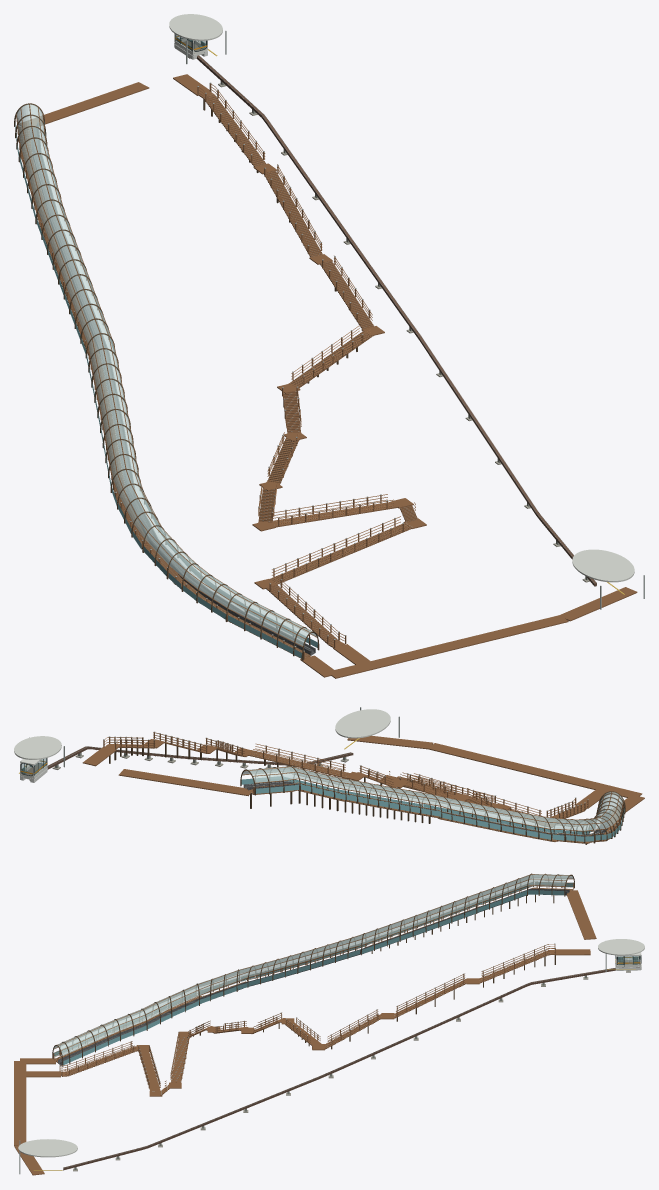
The model's file is bitgaram-access-overview.glb.
3 renders of one model, top to bottom at view 1: azimuth 30°, elevation 25°; view 2: azimuth 150°, elevation 25°; view 3: azimuth 270°, elevation 25°, orthographic. The views are drawn at different scales.
Parts seen in each view (by area): view 1: access101_gallery_roof, walk-floor_outdoor_timber_stairs, photo_stone_slide_U_trough, access101_outdoor_horizontal_rails, walk-floor_slide_side_stairs, slide_gallery_longitudinal_slats, slide_gallery_timber_arch, walk-floor_access101_lower_gallery, slide_gallery_blue_side, access101_outdoor_guard_posts, access101_lower_station_oval_canopy, walk-floor_access101_lower_outdoor (+4 smaller); view 2: access101_gallery_roof, slide_gallery_blue_side, access101_outdoor_horizontal_rails, walk-floor_access101_lower_gallery, walk-floor_outdoor_timber_stairs, slide_gallery_timber_arch, slide_gallery_longitudinal_slats, access101_outdoor_guard_posts, access101_lower_station_oval_canopy, walk-floor_access101_lower_outdoor, walk-floor_access101_upper_gallery, access101_upper_station_oval_canopy (+12 smaller); view 3: access101_gallery_roof, slide_gallery_blue_side, walk-floor_outdoor_timber_stairs, access101_outdoor_horizontal_rails, slide_gallery_longitudinal_slats, slide_gallery_timber_arch, photo_stone_slide_U_trough, walk-floor_access101_lower_outdoor, access101_outdoor_guard_posts, walk-floor_access101_lower_gallery, access101_lower_station_oval_canopy, walk-floor_access101_turn_landings (+4 smaller).
Part boxes in pixels (x1,y1,x2,y2): access101_gallery_roof: (16,104,316,645); walk-floor_outdoor_timber_stairs: (198,91,419,647); photo_stone_slide_U_trough: (30,123,315,655); access101_outdoor_horizontal_rails: (198,84,415,645); walk-floor_slide_side_stairs: (19,127,310,658); slide_gallery_longitudinal_slats: (16,104,316,646); slide_gallery_timber_arch: (14,103,319,655); walk-floor_access101_lower_gallery: (300,587,637,678); slide_gallery_blue_side: (15,122,317,658); access101_outdoor_guard_posts: (197,83,403,648); access101_lower_station_oval_canopy: (572,549,634,582); walk-floor_access101_lower_outdoor: (333,615,567,668); access101_gallery_roof: (242,766,623,830); slide_gallery_blue_side: (241,776,624,841); access101_outdoor_horizontal_rails: (104,732,587,818); walk-floor_access101_lower_gallery: (347,735,644,812); walk-floor_outdoor_timber_stairs: (105,739,587,823); slide_gallery_timber_arch: (240,765,625,838); slide_gallery_longitudinal_slats: (242,766,623,831); access101_outdoor_guard_posts: (103,732,588,822); access101_lower_station_oval_canopy: (335,709,390,738); walk-floor_access101_lower_outdoor: (430,743,611,808); walk-floor_access101_upper_gallery: (118,769,253,796); access101_upper_station_oval_canopy: (14,736,61,759); access101_gallery_roof: (54,874,573,1055); slide_gallery_blue_side: (54,882,573,1065); walk-floor_outdoor_timber_stairs: (60,950,555,1095); access101_outdoor_horizontal_rails: (60,944,555,1090); slide_gallery_longitudinal_slats: (54,874,573,1056); slide_gallery_timber_arch: (52,873,574,1062); photo_stone_slide_U_trough: (58,888,569,1065); walk-floor_access101_lower_outdoor: (14,1071,60,1145); access101_outdoor_guard_posts: (59,944,555,1087); walk-floor_access101_lower_gallery: (14,1058,55,1175); access101_lower_station_oval_canopy: (18,1139,77,1157); walk-floor_access101_turn_landings: (136,978,479,1096).
Size of the model in its own units: 53.2 by 38.31 by 102.
Materials: 31 (1 with a texture image).
